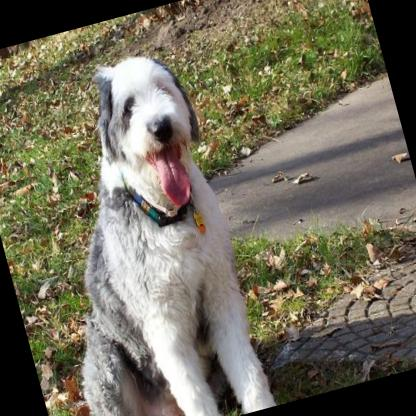Old_English_sheepdog: (0, 38, 278, 416)
